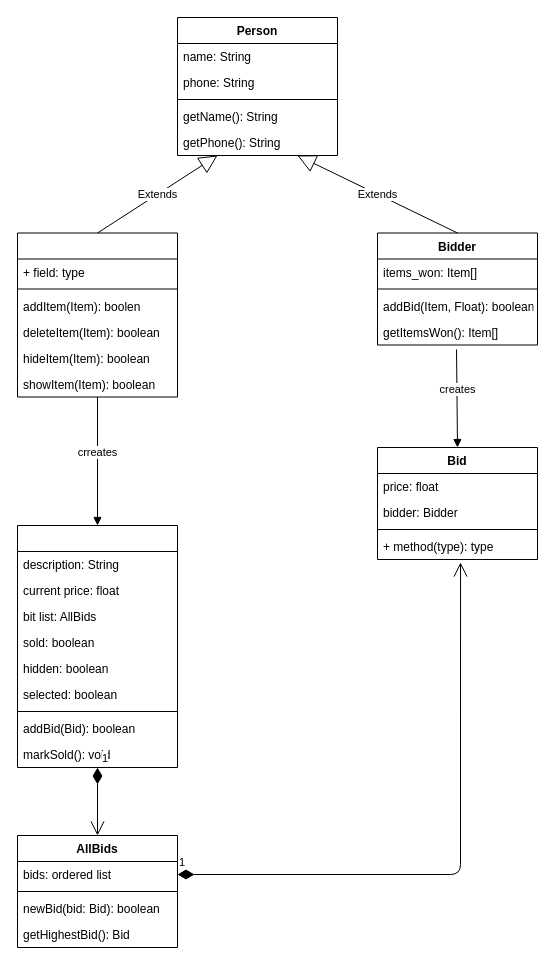
Image size: 555x968. Some labels were removed from this diagram. The shapes that lost their labels are listed below. From the top down, each one's box as (x1, y1, x2, y2) in pixels, then its label:
(16, 232, 178, 397): Admin
(16, 524, 178, 768): Item
